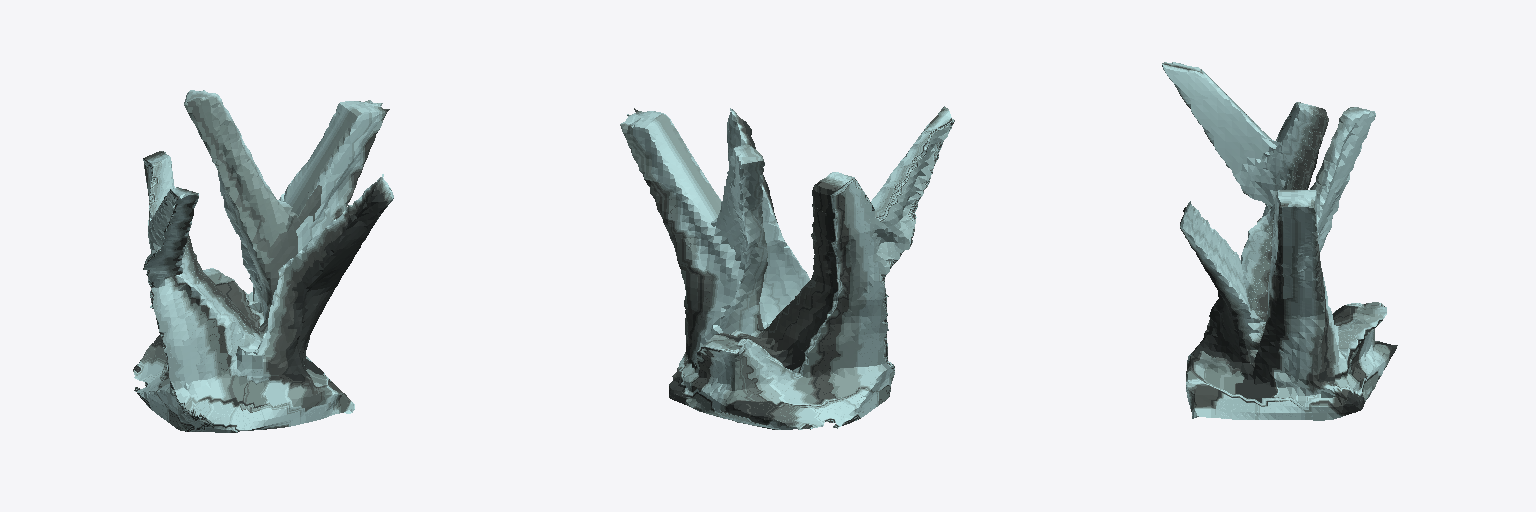
The picture shows the model from 3 angles: view 1: azimuth 30°, elevation 25°; view 2: azimuth 150°, elevation 25°; view 3: azimuth 270°, elevation 25°; orthographic projection.
Parts seen in each view (by area): view 1: Cube; view 2: Cube; view 3: Cube.
Boxes of the visible parts, box(x1,y1,x2,y2) form: Cube: box(133, 90, 393, 432); Cube: box(620, 106, 954, 429); Cube: box(1162, 62, 1397, 420).
Bounding box in the file's own units: 4.21 × 4.14 × 3.22.
1 materials, 1 textured.